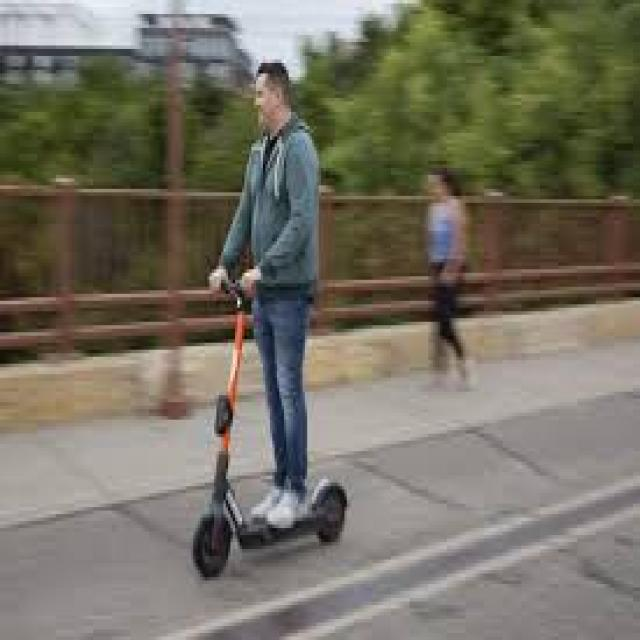non-helmet: (191, 52, 353, 592)
